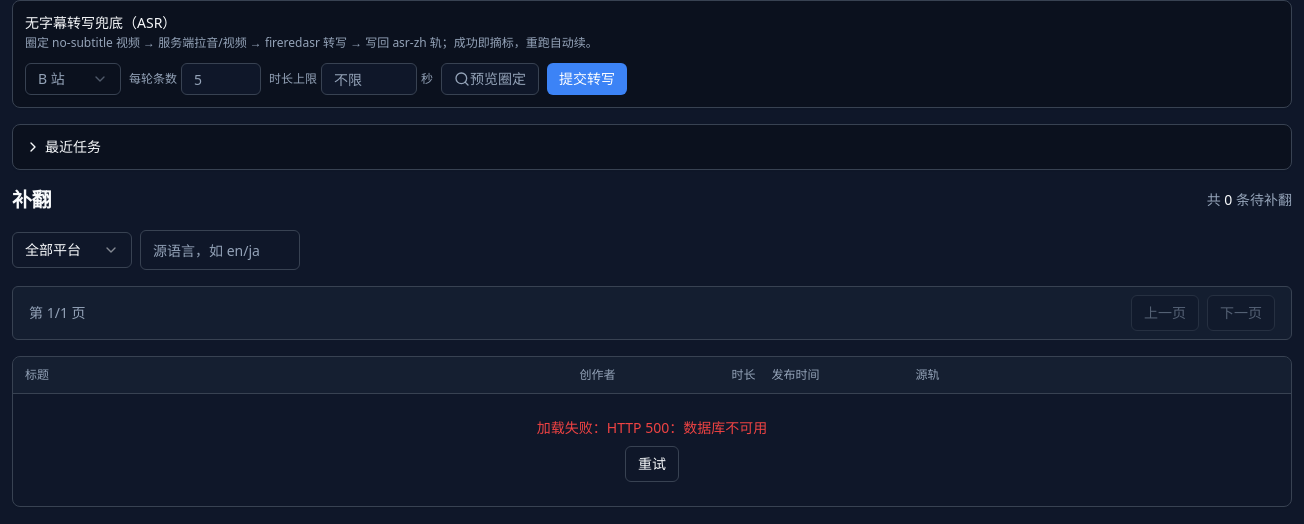
Test case: 清单错误态：文案 + 重试拉到数据
This screenshot has width=1304, height=524.
Expected: the text "加载失败：HTTP 500：数据库不可用" is shown, [537,418,767,436]
Click the button "重试". click: (652, 464)
box: [625,446,679,482]
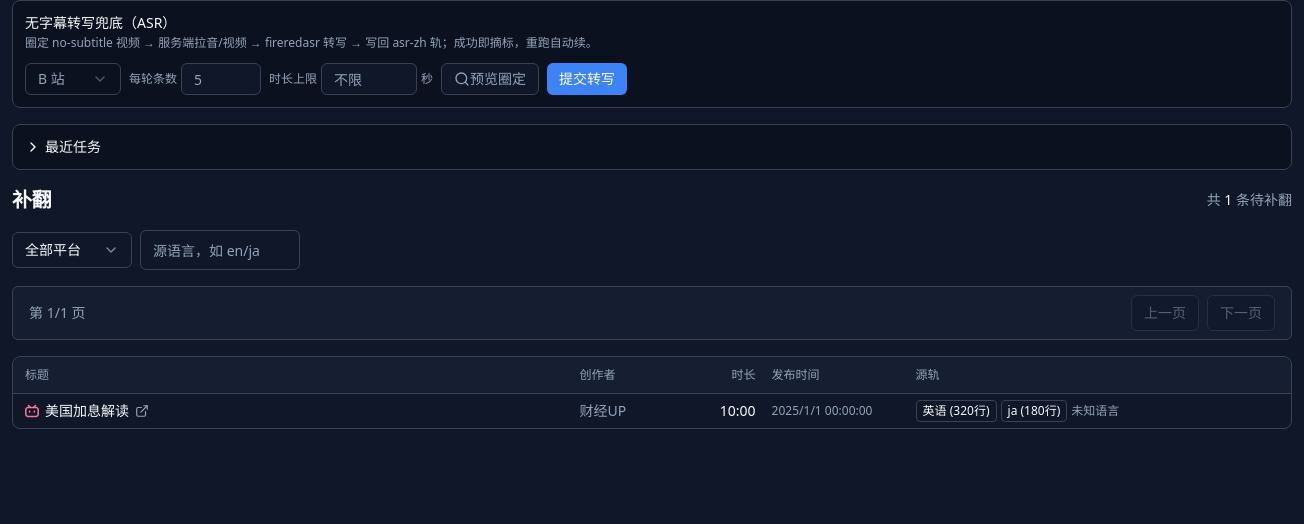
Expected: the text "美国加息解读" is shown, [45,400,129,420]
